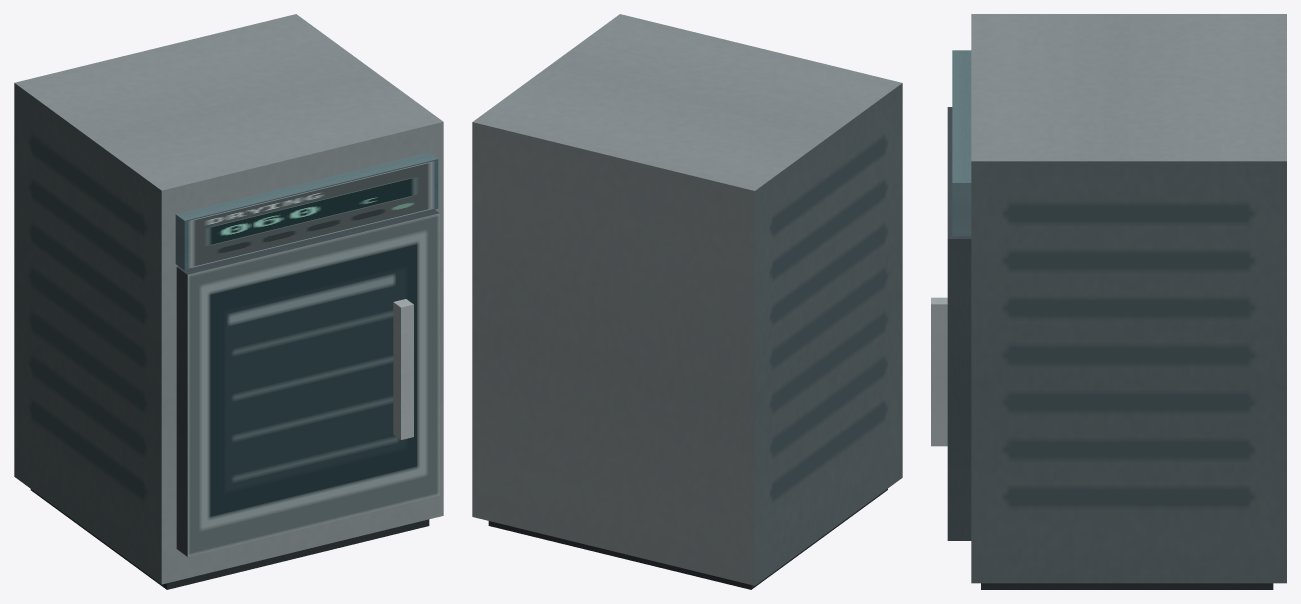
The model's file is Laboratory_Drying_Cabinet.glb.
3 views of the same model, side by side, from view 1: azimuth 30°, elevation 25°; view 2: azimuth 150°, elevation 25°; view 3: azimuth 270°, elevation 25° (orthographic). The views are drawn at different scales.
Visible parts, largest first — view 1: Laboratory_Drying_Cabinet; view 2: Laboratory_Drying_Cabinet; view 3: Laboratory_Drying_Cabinet.
Boxes of the visible parts, x1,y1,x2,y2 form: Laboratory_Drying_Cabinet: (14,14,443,589); Laboratory_Drying_Cabinet: (472,14,902,589); Laboratory_Drying_Cabinet: (931,14,1286,589).
Bounding box in the file's own units: 0.57 × 0.7825 × 0.5815.
1 material, 1 textured.
